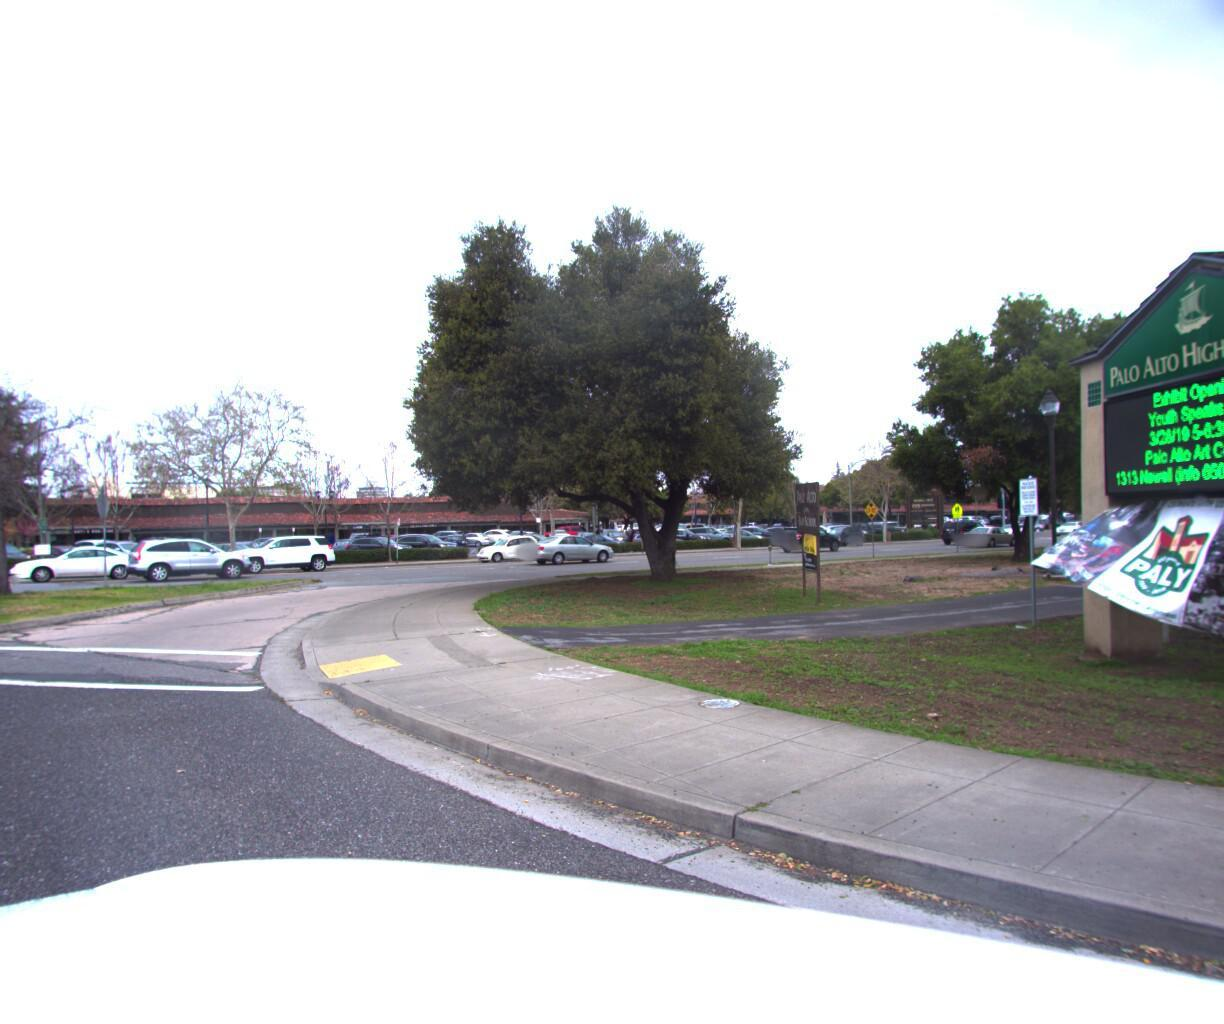car: (129, 534, 261, 586), (11, 542, 155, 585), (222, 531, 341, 576), (523, 532, 619, 566), (472, 533, 547, 563), (774, 522, 847, 552), (345, 530, 420, 559), (505, 529, 570, 553), (936, 517, 995, 543), (680, 523, 741, 547), (959, 524, 1020, 548), (654, 525, 714, 546), (815, 525, 867, 547), (881, 524, 928, 541)
